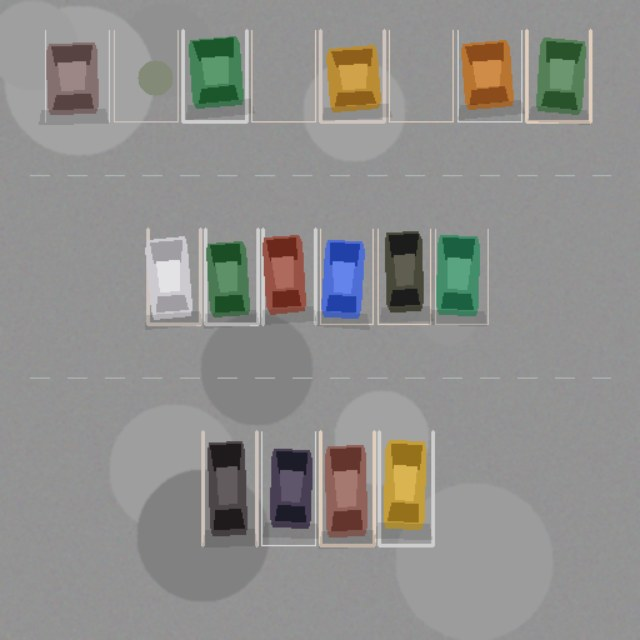space-empty: (251, 30, 315, 121), (389, 30, 453, 121), (114, 30, 177, 121)
space-occupied: (202, 431, 256, 545), (261, 431, 315, 545), (320, 431, 374, 545), (379, 431, 432, 545), (45, 30, 109, 121), (320, 30, 384, 121), (457, 30, 521, 121), (526, 30, 590, 121), (183, 30, 246, 121), (147, 229, 200, 324), (320, 229, 373, 324), (377, 229, 430, 324), (205, 229, 257, 324), (263, 229, 315, 324), (435, 229, 487, 324)
